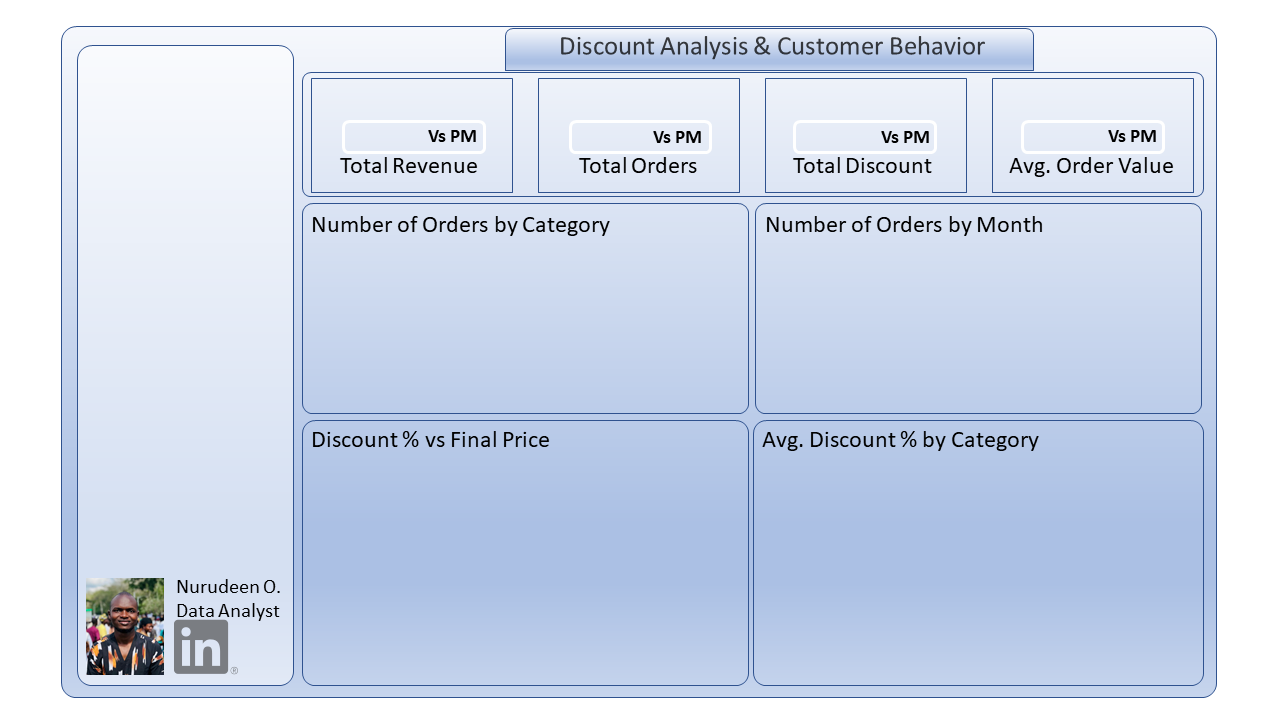

Layout of this report page (visuals, bound fields, positions):
{"tool":"powerbi","page":{"name":"Page 2","canvas":[1280,720],"ordinal":1},"visuals":[{"type":"slicer","fields":{"Values":["ecommerce_dataset.Purchase_Date.Variation.Date Hierarchy.Month"]},"box":[85,53,205,386],"z":0},{"type":"slicer","fields":{"Values":["ecommerce_dataset.Category"]},"box":[85,430,205,74],"z":1000},{"type":"slicer","fields":{"Values":["ecommerce_dataset.Payment_Method"]},"box":[85,496,205,79],"z":2000},{"type":"card","fields":{"Values":["Measures Table.Total Revenue"]},"box":[335,54,147,85],"z":3000},{"type":"card","fields":{"Values":["Measures Table.Total Orders"]},"box":[547,53,147,85],"z":4000},{"type":"card","fields":{"Values":["Measures Table.Total Discount"]},"box":[791,53,147,85],"z":5000},{"type":"card","fields":{"Values":["Measures Table.Average Order Value"]},"box":[1026,54,147,85],"z":6000},{"type":"scatterChart","fields":{"Y":["Sum(ecommerce_dataset.Final_Price(Rs.))"],"X":["ecommerce_dataset.Discount (%)"]},"box":[308,459,431,227],"z":7000},{"type":"columnChart","fields":{"Y":["Avg(ecommerce_dataset.Discount (%))"],"Category":["ecommerce_dataset.Category"]},"box":[753,451,467,235],"z":8000},{"type":"columnChart","fields":{"Category":["ecommerce_dataset.Category"],"Y":["Measures Table.Total Orders"]},"box":[308,227,431,192],"z":9000},{"type":"columnChart","fields":{"Y":["Measures Table.Total Orders"],"Category":["ecommerce_dataset.Purchase_Date.Variation.Date Hierarchy.Month"]},"box":[760,227,431,192],"z":10000},{"type":"textbox","box":[300,439,386,39],"z":11000},{"type":"card","fields":{"Values":["Measures Table.% MOM Revenue"]},"box":[342,103,99,64],"z":11001},{"type":"card","fields":{"Values":["Measures Table.% MOM Orders"]},"box":[571,103,99,64],"z":11002},{"type":"card","fields":{"Values":["Measures Table.% MOM Discount"]},"box":[791,103,99,64],"z":11003},{"type":"card","fields":{"Values":["Measures Table.% MOM Avg Order value"]},"box":[1016,103,99,64],"z":11004}]}

Visuals, with their boxes in screenshot pixels (x1, y1, x2, y2), scaled from the page's 1280x720 canvas onto the 1280x720 screenshot:
slicer - ecommerce_dataset.Purchase_Date.Variation.Date Hierarchy.Month: pyautogui.locateOnScreen(85, 53, 290, 439)
slicer - ecommerce_dataset.Category: pyautogui.locateOnScreen(85, 430, 290, 504)
slicer - ecommerce_dataset.Payment_Method: pyautogui.locateOnScreen(85, 496, 290, 575)
card - Measures Table.Total Revenue: pyautogui.locateOnScreen(335, 54, 482, 139)
card - Measures Table.Total Orders: pyautogui.locateOnScreen(547, 53, 694, 138)
card - Measures Table.Total Discount: pyautogui.locateOnScreen(791, 53, 938, 138)
card - Measures Table.Average Order Value: pyautogui.locateOnScreen(1026, 54, 1173, 139)
scatterChart - Sum(ecommerce_dataset.Final_Price(Rs.)) x ecommerce_dataset.Discount (%): pyautogui.locateOnScreen(308, 459, 739, 686)
columnChart - Avg(ecommerce_dataset.Discount (%)) x ecommerce_dataset.Category: pyautogui.locateOnScreen(753, 451, 1220, 686)
columnChart - ecommerce_dataset.Category x Measures Table.Total Orders: pyautogui.locateOnScreen(308, 227, 739, 419)
columnChart - Measures Table.Total Orders x ecommerce_dataset.Purchase_Date.Variation.Date Hierarchy.Month: pyautogui.locateOnScreen(760, 227, 1191, 419)
textbox: pyautogui.locateOnScreen(300, 439, 686, 478)
card - Measures Table.% MOM Revenue: pyautogui.locateOnScreen(342, 103, 441, 167)
card - Measures Table.% MOM Orders: pyautogui.locateOnScreen(571, 103, 670, 167)
card - Measures Table.% MOM Discount: pyautogui.locateOnScreen(791, 103, 890, 167)
card - Measures Table.% MOM Avg Order value: pyautogui.locateOnScreen(1016, 103, 1115, 167)
